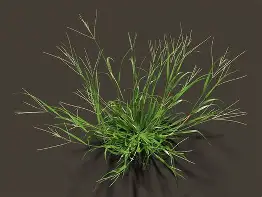weed: (41, 33, 249, 188)
